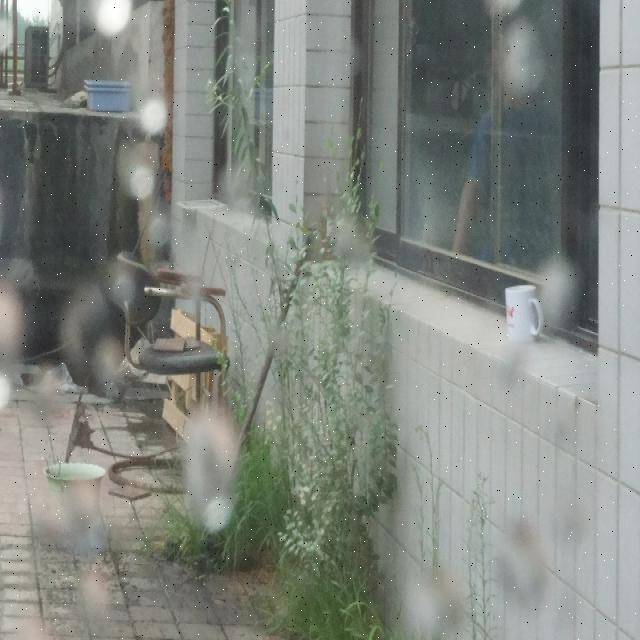raindrop: (176, 398, 250, 520), (379, 553, 470, 640), (524, 252, 590, 342), (30, 468, 104, 544), (492, 510, 547, 610), (75, 560, 144, 638), (162, 244, 216, 326), (491, 28, 548, 102), (314, 208, 372, 280), (486, 335, 545, 403), (53, 283, 96, 372), (0, 274, 41, 362), (18, 381, 82, 435), (226, 264, 278, 324), (214, 158, 261, 222), (550, 506, 594, 574), (105, 146, 159, 200), (90, 326, 134, 392), (542, 591, 600, 640), (136, 86, 190, 138), (102, 254, 142, 310), (549, 419, 585, 475), (320, 36, 366, 79), (130, 216, 177, 256), (95, 0, 138, 32), (470, 0, 539, 15)
